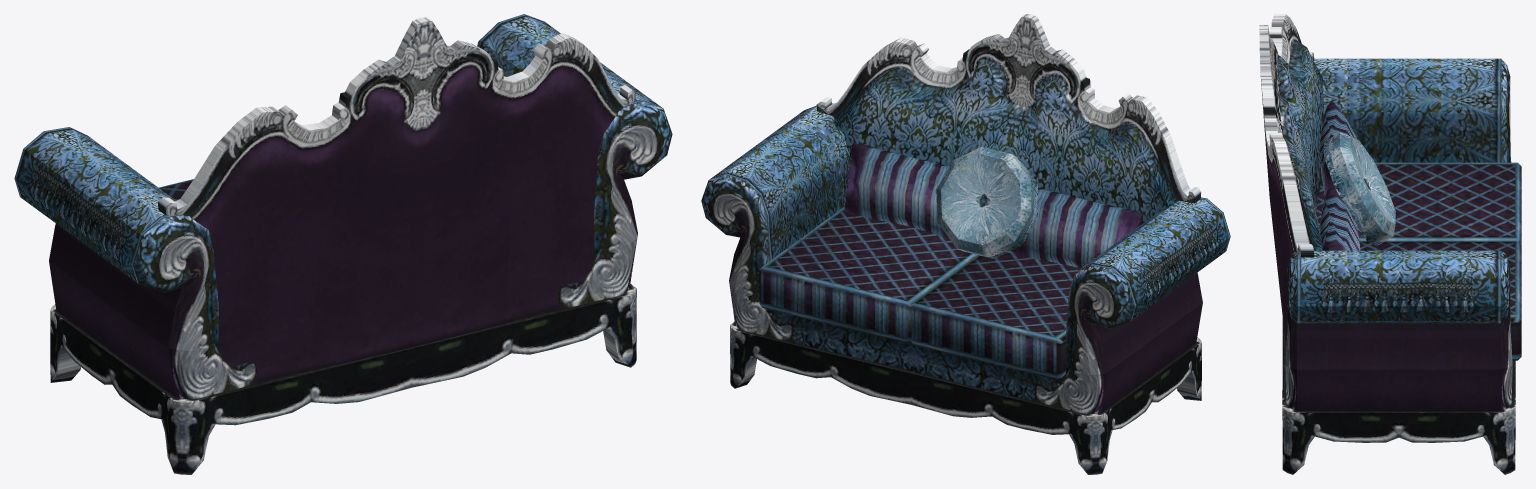
The model's file is furni_0201209_01.FBX.
3 renders of one model, left to right at view 1: azimuth 30°, elevation 25°; view 2: azimuth 150°, elevation 25°; view 3: azimuth 270°, elevation 25°, orthographic. The views are drawn at different scales.
Parts seen in each view (by area): view 1: furni_0201209_01; view 2: furni_0201209_01; view 3: furni_0201209_01.
Part boxes in pixels (x1,y1,x2,y2): furni_0201209_01: (14,14,672,474); furni_0201209_01: (701,14,1230,474); furni_0201209_01: (1259,14,1521,474).
Bounding box in the file's own units: 158 × 115 × 77.62.
